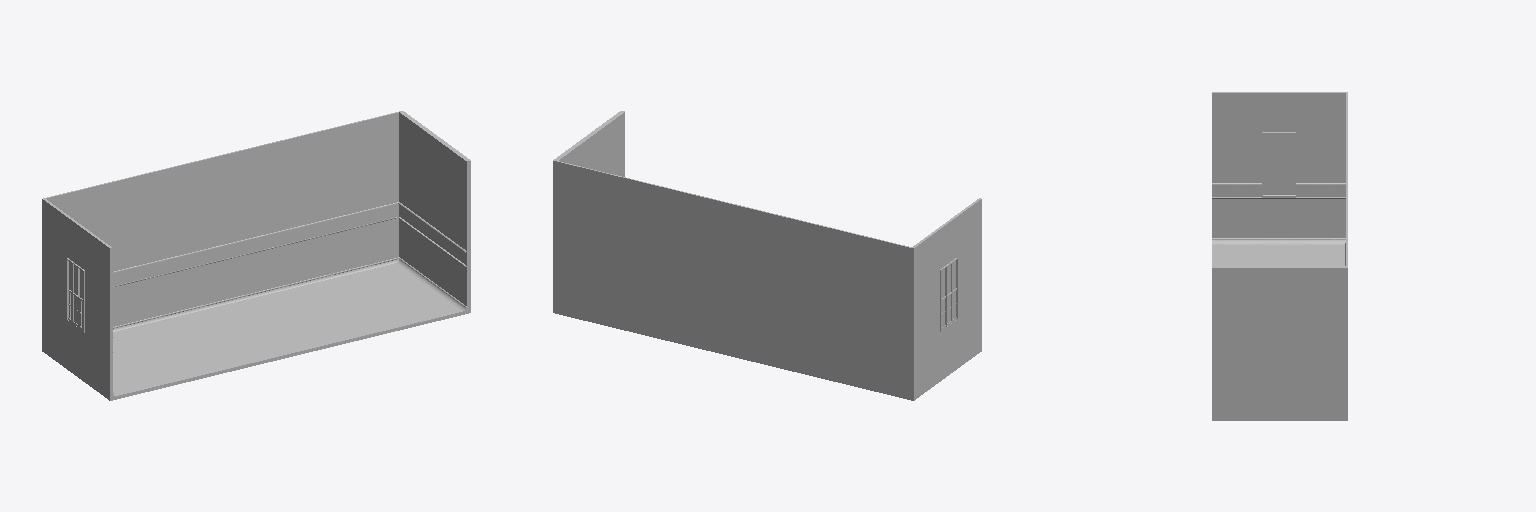
Rendered from room716.obj.
3 views of the same model, side by side, from view 1: azimuth 30°, elevation 25°; view 2: azimuth 150°, elevation 25°; view 3: azimuth 270°, elevation 25° (orthographic).
Visible parts, largest first — view 1: Object.1; view 2: Object.1; view 3: Object.1.
Part boxes in pixels (left/top/right/bottom): Object.1: left=42, top=111, right=470, bottom=400; Object.1: left=553, top=111, right=981, bottom=400; Object.1: left=1212, top=92, right=1347, bottom=420.
Bounding box in the file's own units: 746 × 300 × 243.